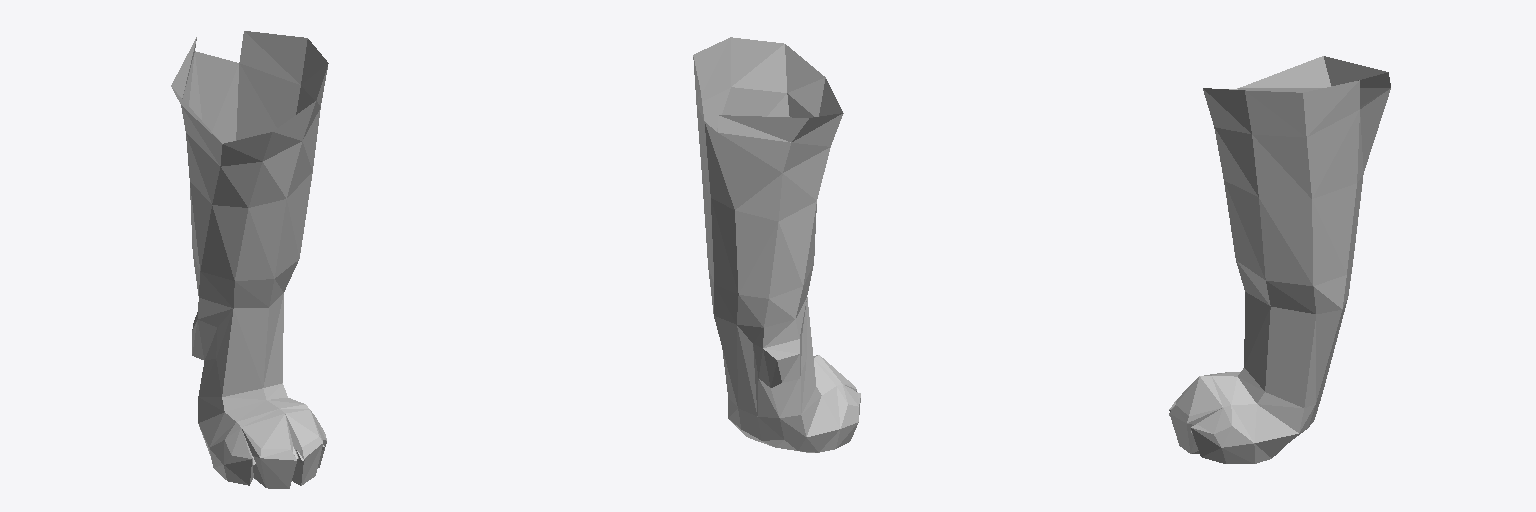
Rendered from left_leg.obj.
3 renders of one model, left to right at view 1: azimuth 30°, elevation 25°; view 2: azimuth 150°, elevation 25°; view 3: azimuth 270°, elevation 25°, orthographic.
Bounding box in the file's own units: 0.1039 × 0.3043 × 0.1581.